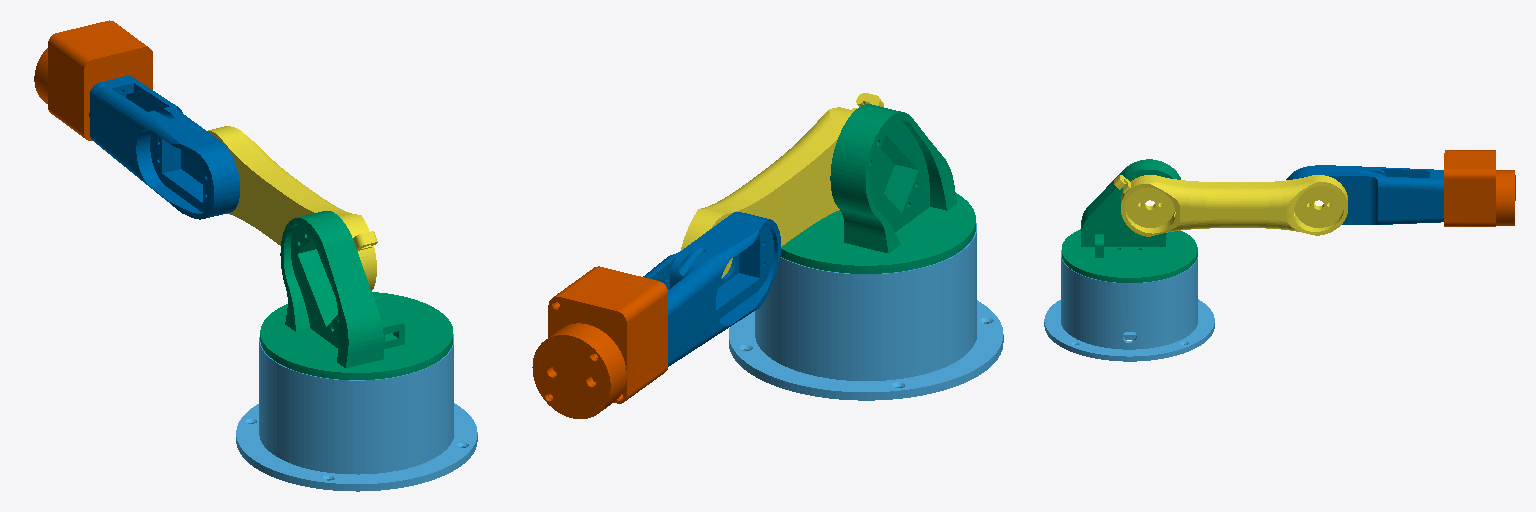
robot.urdf — test_robot:
<robot name="test_robot">

  <link name="base_link"/>

  <link name="link_1">
    <visual>
      <geometry>
        <mesh filename="package://my_robot_description/meshes/baseplateurdf.stl" scale="0.001 0.001 0.001"/>
      </geometry>
    </visual>
  </link>

  <link name="link_2">
    <visual>
      <geometry>
        <mesh filename="package://my_robot_description/meshes/baseplatetop.stl" scale="0.001 0.001 0.001"/>
      </geometry>
    </visual>
  </link>

  <link name="link_3">
    <visual>
      <geometry>
        <mesh filename="package://my_robot_description/meshes/armlink1urdf.stl" scale="0.001 0.001 0.001"/>
      </geometry>
    </visual>
  </link>

  <link name="link_4">
    <visual>
      <geometry>
        <mesh filename="package://my_robot_description/meshes/armlink2urdf.stl" scale="0.001 0.001 0.001"/>
      </geometry>
    </visual>
  </link>

  <link name="link_5">
    <visual>
      <geometry>
        <mesh filename="package://my_robot_description/meshes/linkoneassembly.stl" scale="0.001 0.001 0.001"/>
      </geometry>
    </visual>
  </link>

  <!-- Fixed base -->
  <joint name="joint_1" type="fixed">
    <parent link="base_link"/>
    <child link="link_1"/>
    <origin xyz="0 0 0" rpy="0 0 0"/>
  </joint>

  <!-- Base rotation -->
  <joint name="joint_2" type="continuous">
    <parent link="link_1"/>
    <child link="link_2"/>
    <origin xyz="0 0 0.056" rpy="0 0 0"/>
    <axis xyz="0 0 1"/>
  </joint>

  <!-- Shoulder -->
  <joint name="joint_3" type="continuous">
    <parent link="link_2"/>
    <child link="link_3"/>
    <origin xyz="0 0.015 0.04" rpy="0 1.5708 0"/>
    <axis xyz="0 0 1"/>
  </joint>

  <!-- Elbow -->
  <joint name="joint_4" type="continuous">
    <parent link="link_3"/>
    <child link="link_4"/>
    <origin xyz="0 0.119 0.0013" rpy="0 3.14159 0"/>
    <axis xyz="0 0 1"/>
  </joint>

  <!-- Wrist -->
  <joint name="joint_5" type="continuous">
    <parent link="link_4"/>
    <child link="link_5"/>
    <origin xyz="0 0.09 0.01" rpy="-1.576 0 0"/>
    <axis xyz="0 0 1"/>
  </joint>

</robot>

--- Render facts (derived) ---
Views: 3 orthographic renders of the robot side by side, from view 1: azimuth 30°, elevation 25°; view 2: azimuth 150°, elevation 25°; view 3: azimuth 270°, elevation 25°.
Robot: test_robot — 6 links, 5 joints (4 continuous, 1 fixed); root link base_link; default pose: every joint at zero.
Links seen in each view (by area): view 1: link_1, link_2, link_4, link_5, link_3; view 2: link_1, link_2, link_5, link_4, link_3; view 3: link_1, link_3, link_2, link_4, link_5.
Boxes of the visible links, x1=… form: link_1: x1=236, y1=334, x2=477, y2=491; link_2: x1=260, y1=211, x2=452, y2=379; link_4: x1=89, y1=76, x2=239, y2=219; link_5: x1=34, y1=20, x2=152, y2=140; link_3: x1=208, y1=126, x2=377, y2=290; link_1: x1=729, y1=223, x2=1003, y2=400; link_2: x1=780, y1=104, x2=975, y2=273; link_5: x1=532, y1=266, x2=667, y2=418; link_4: x1=643, y1=212, x2=780, y2=366; link_3: x1=681, y1=93, x2=883, y2=277; link_1: x1=1044, y1=250, x2=1214, y2=361; link_3: x1=1114, y1=175, x2=1347, y2=236; link_2: x1=1062, y1=159, x2=1197, y2=282; link_4: x1=1286, y1=165, x2=1443, y2=224; link_5: x1=1444, y1=150, x2=1515, y2=226.
Bounding box of the posed robot: 0.1212 × 0.3352 × 0.126 m (x, y, z).
5 mesh visuals loaded from 5 distinct referenced files (5 binary STL).
